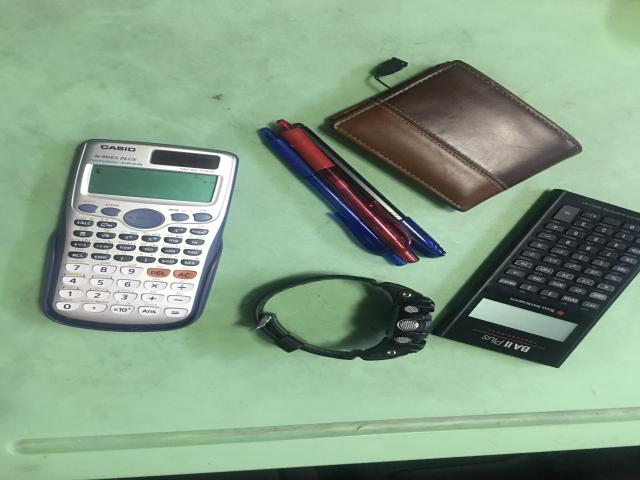Pen: (259, 121, 445, 267)
Wallet: (325, 60, 583, 212)
Watch: (238, 272, 438, 362)
